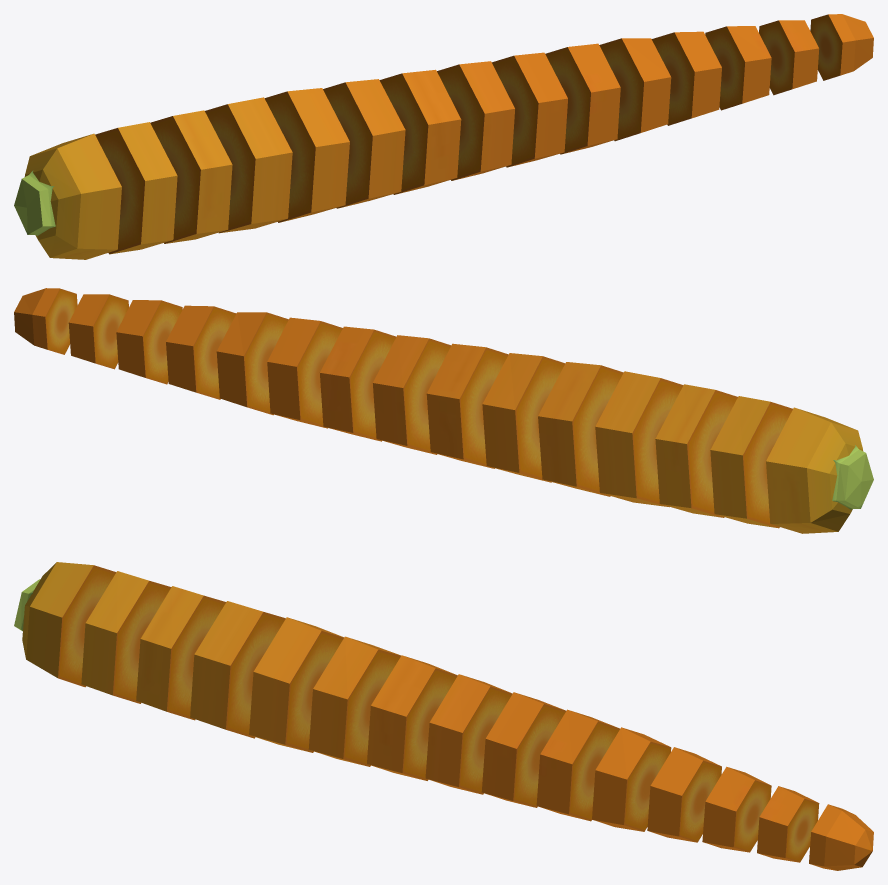
Rendered from Carrot.fbx.
The picture shows the model from 3 angles, top to bottom: view 1: azimuth 30°, elevation 25°; view 2: azimuth 150°, elevation 25°; view 3: azimuth 330°, elevation 25°; orthographic projection.
Visible parts, largest first — view 1: Carrot; view 2: Carrot; view 3: Carrot.
Boxes of the visible parts, x1,y1,x2,y2 form: Carrot: (14, 14, 873, 259); Carrot: (14, 288, 873, 533); Carrot: (14, 562, 873, 870).
Bounding box in the file's own units: 131 × 19.99 × 16.71.
